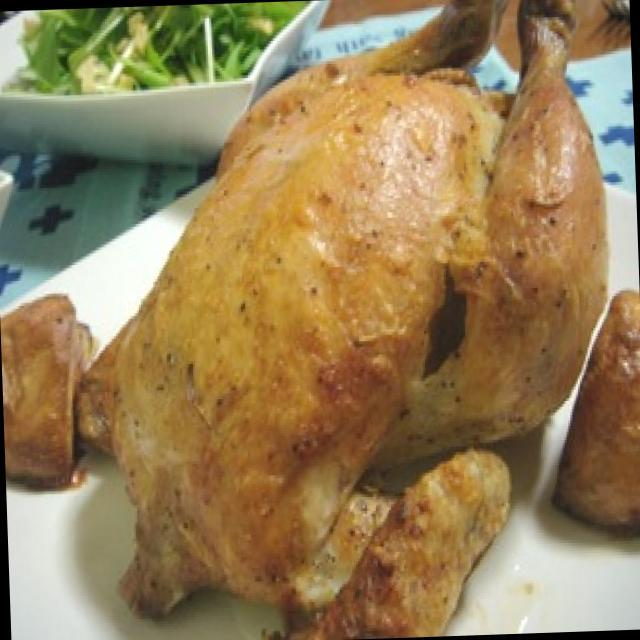Chicken: (48, 25, 640, 640)
